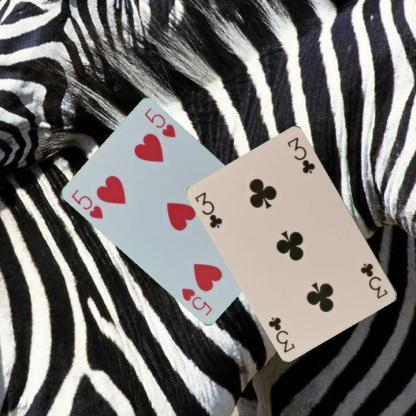3c: (192, 189, 225, 230), (358, 260, 390, 300)
5h: (68, 186, 106, 220)
